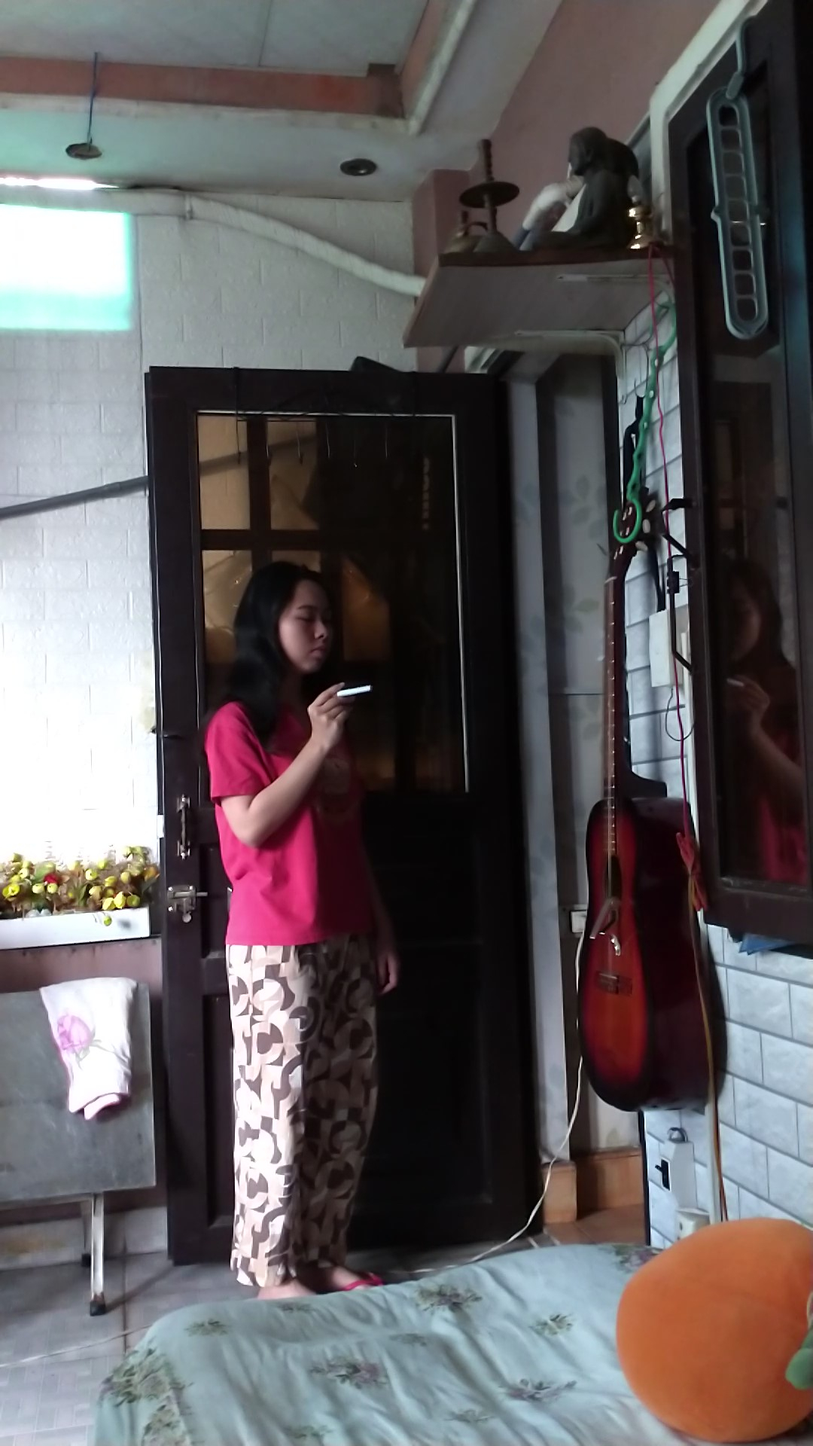cigarette: (336, 679, 376, 699)
person: (203, 538, 400, 1303)
